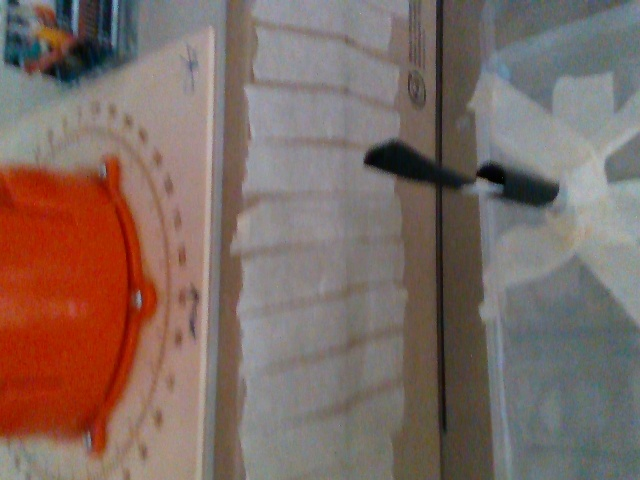test_strip: (360, 137, 503, 197)
